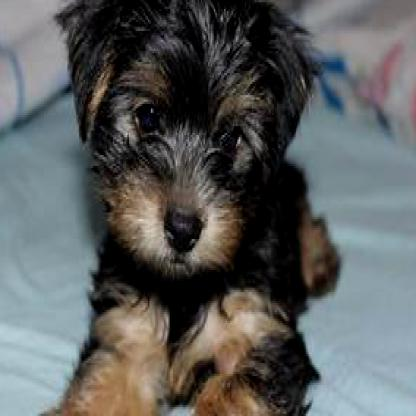dog: (21, 0, 344, 414)
